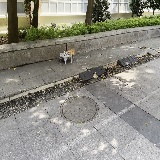fire: (67, 48, 75, 55)
